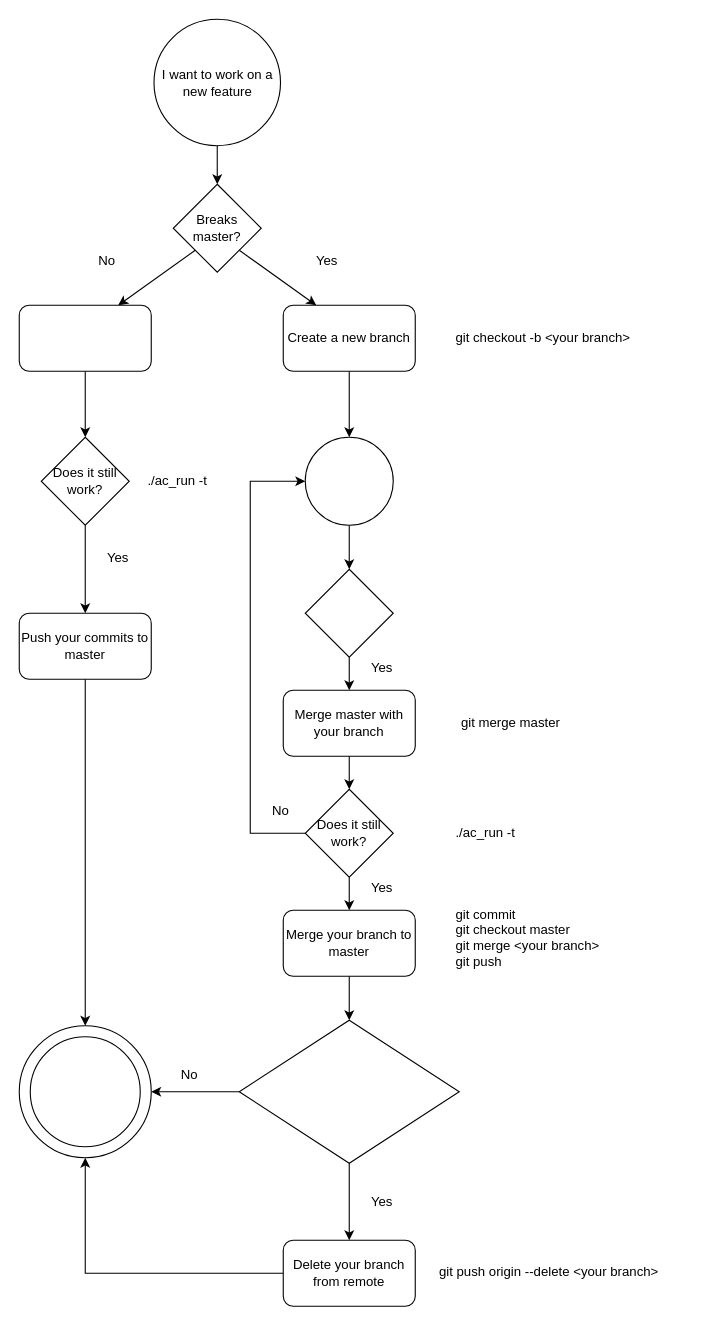
Some shapes in this 704 by 1326 pixel diagram are drawn without their labels. Each missing label, with the centre of its shape:
"Did you push your branch when working on it?" belongs at (348,1091).
"Done?" belongs at (348,612).
"Make your commits directly to master" belongs at (84,337).
"Work on your new branch" belongs at (348,480).
"You're done!" belongs at (84,1091).
